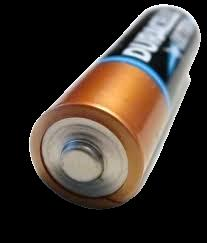Battery: (28, 5, 202, 212)
